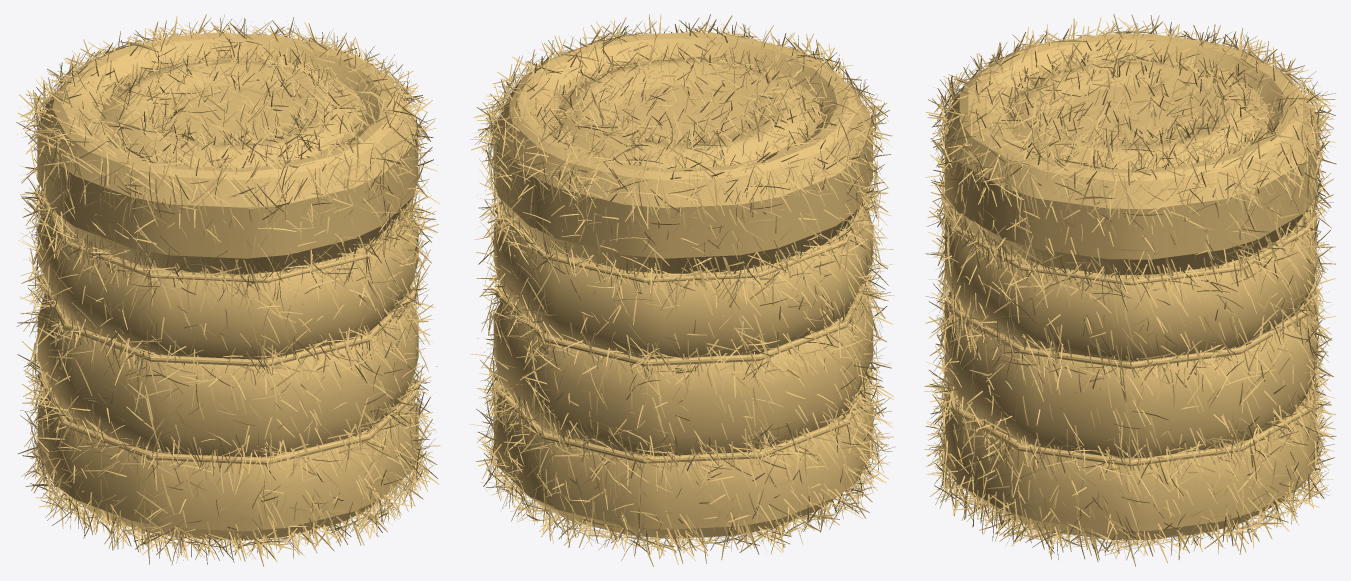
Rendered from foin.fbx.
The picture shows the model from 3 angles, left to right: view 1: azimuth 30°, elevation 25°; view 2: azimuth 150°, elevation 25°; view 3: azimuth 270°, elevation 25°; orthographic projection.
Parts seen in each view (by area): view 1: foin; view 2: foin; view 3: foin.
Boxes of the visible parts, box(x1,y1,x2,y2) form: foin: box(16, 14, 440, 566); foin: box(469, 14, 895, 566); foin: box(924, 14, 1336, 566).
Size of the model in its own units: 51.49 by 53.63 by 49.59.
